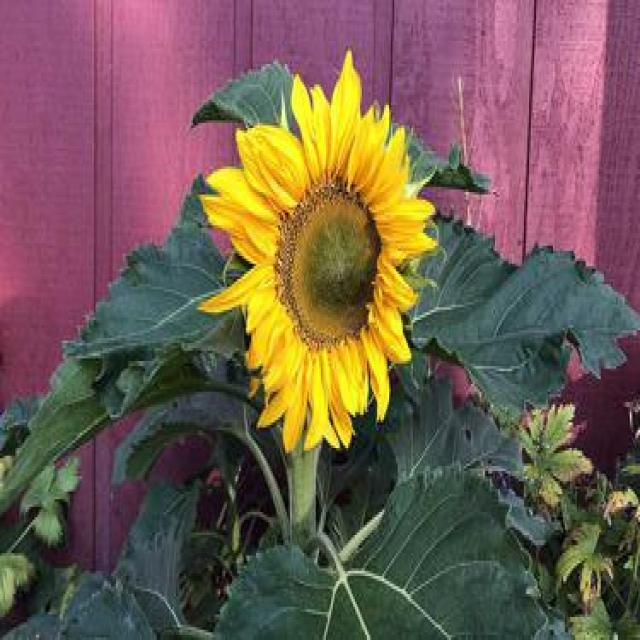sunflower: (192, 45, 438, 452)
